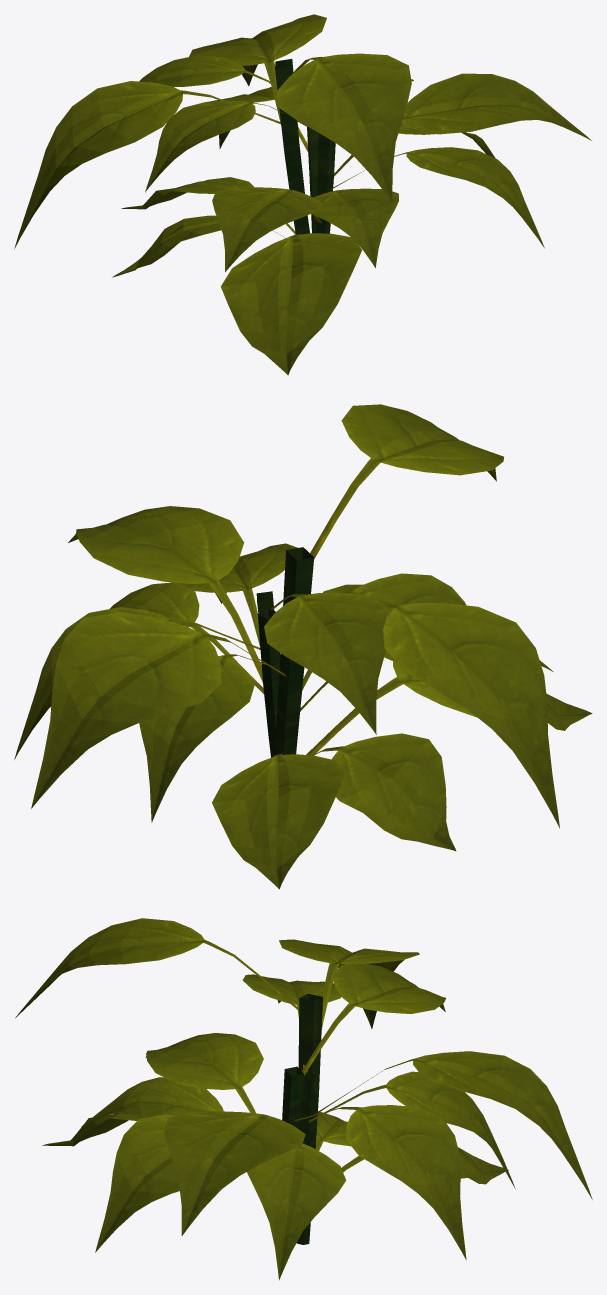
File: sprout1.glb
3 views of the same model, one above another, from view 1: azimuth 30°, elevation 25°; view 2: azimuth 150°, elevation 25°; view 3: azimuth 270°, elevation 25° (orthographic). The views are drawn at different scales.
Parts seen in each view (by area): view 1: Circle; view 2: Circle; view 3: Circle.
Part boxes in pixels (x1,y1,x2,y2): Circle: (14,14,591,375); Circle: (14,404,592,889); Circle: (15,918,592,1280).
Bounding box in the file's own units: 0.8885 × 0.4589 × 0.8239.
2 materials, 2 textured.
